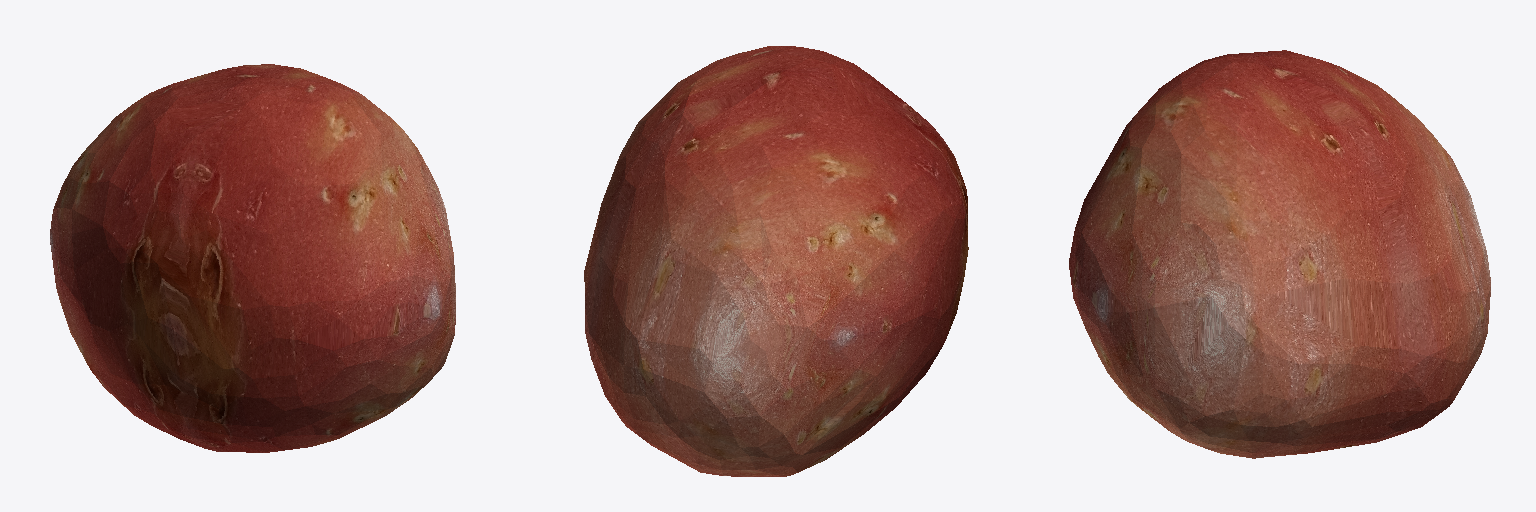
The picture shows the model from 3 angles: view 1: azimuth 30°, elevation 25°; view 2: azimuth 150°, elevation 25°; view 3: azimuth 270°, elevation 25°; orthographic projection.
Visible parts, largest first — view 1: Asteroid; view 2: Asteroid; view 3: Asteroid.
Boxes of the visible parts, x1=… form: Asteroid: x1=50, y1=64, x2=455, y2=452; Asteroid: x1=584, y1=46, x2=968, y2=476; Asteroid: x1=1069, y1=50, x2=1490, y2=458.
Size of the model in its own units: 4.38 by 4.55 by 4.71.
Materials: 1 (1 with a texture image).